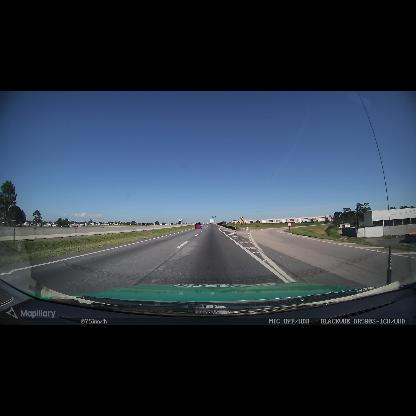O-MP: (240, 217, 243, 224)
R-19: (287, 222, 291, 226), (244, 220, 247, 224)
